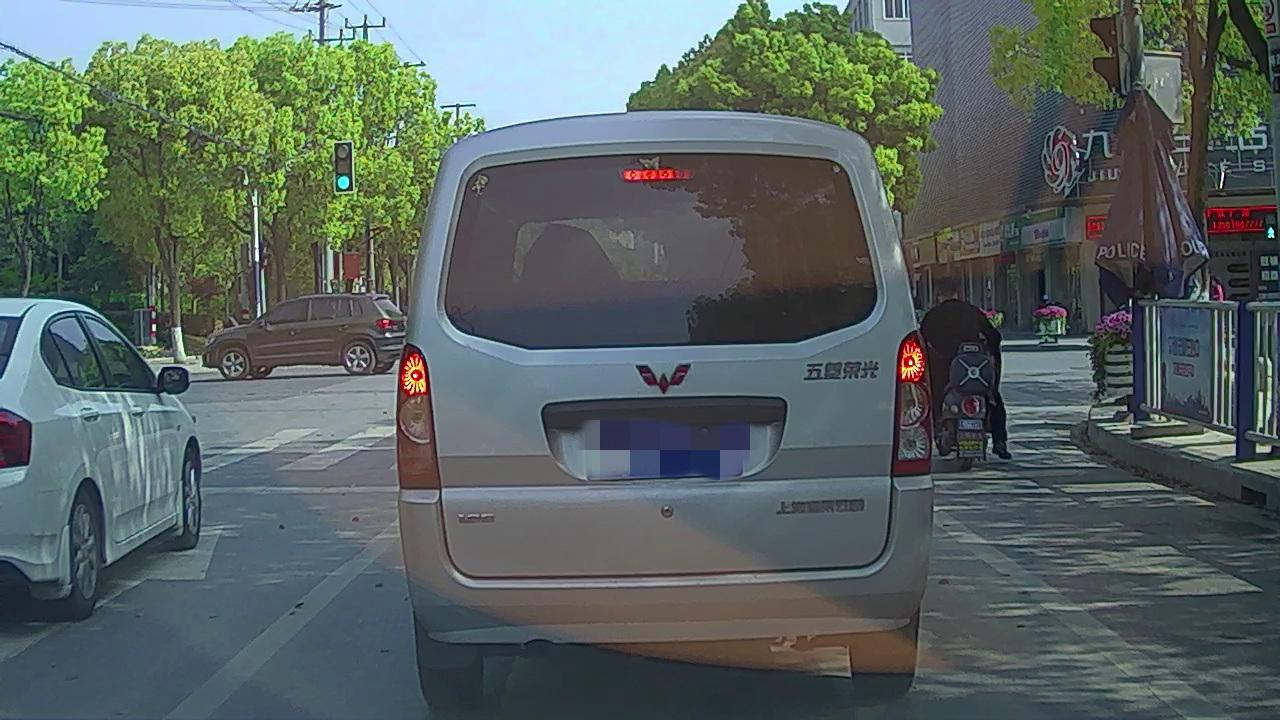traffic_light: (335, 142, 354, 194)
